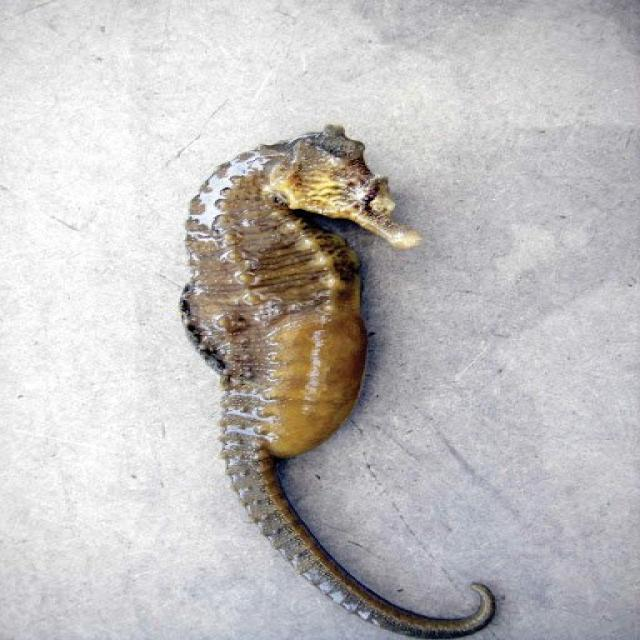seahorse: (182, 125, 495, 635)
